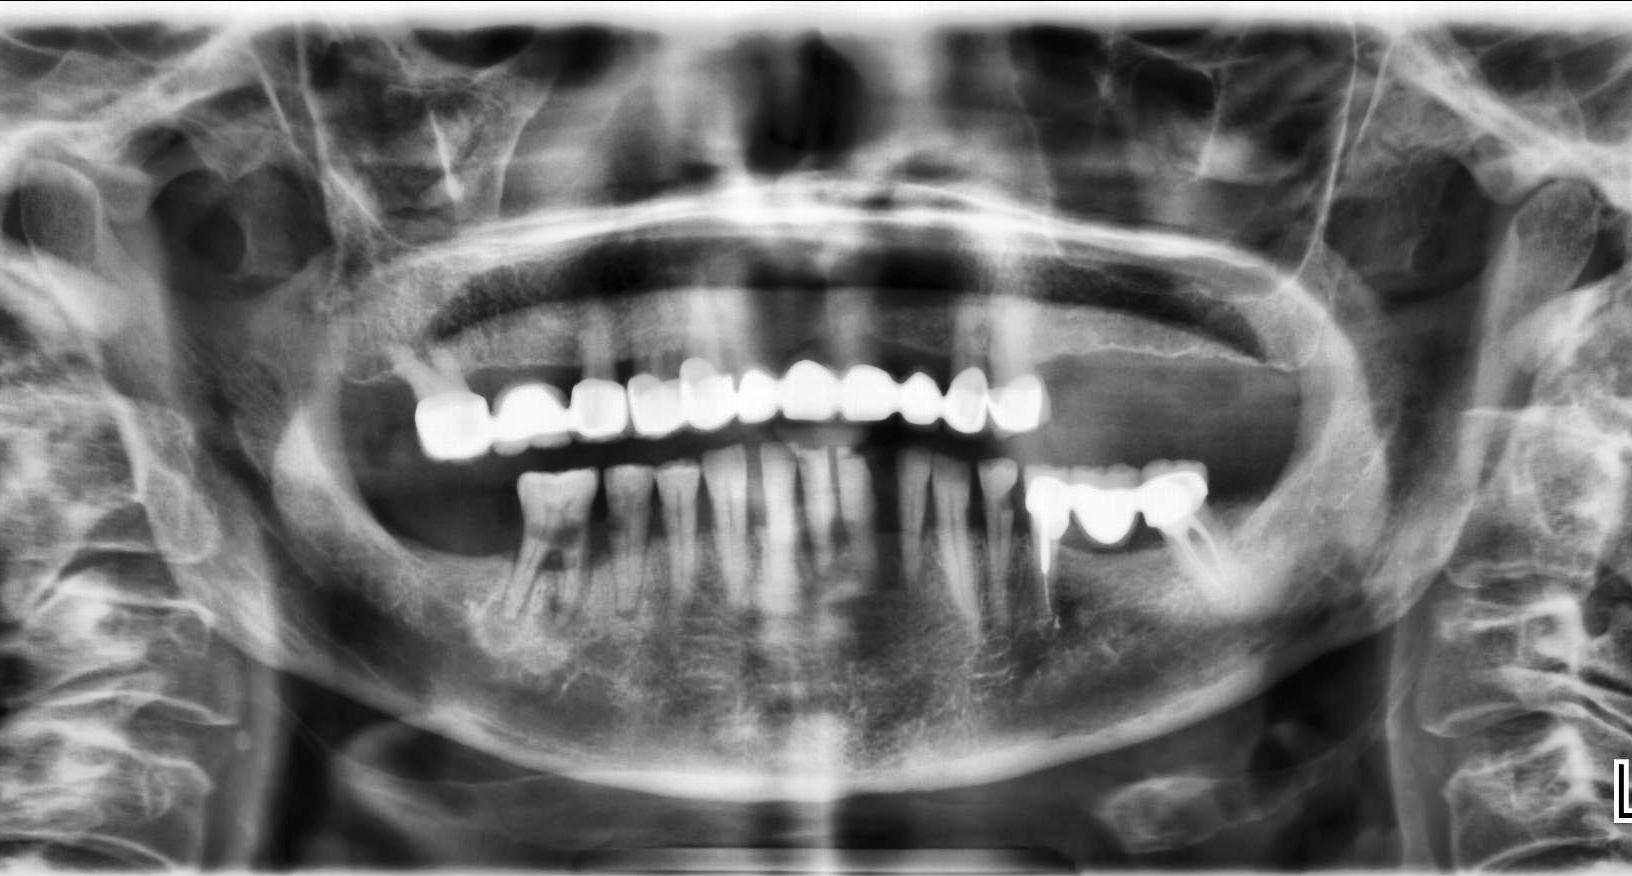radikuler: (480, 593, 528, 660)
